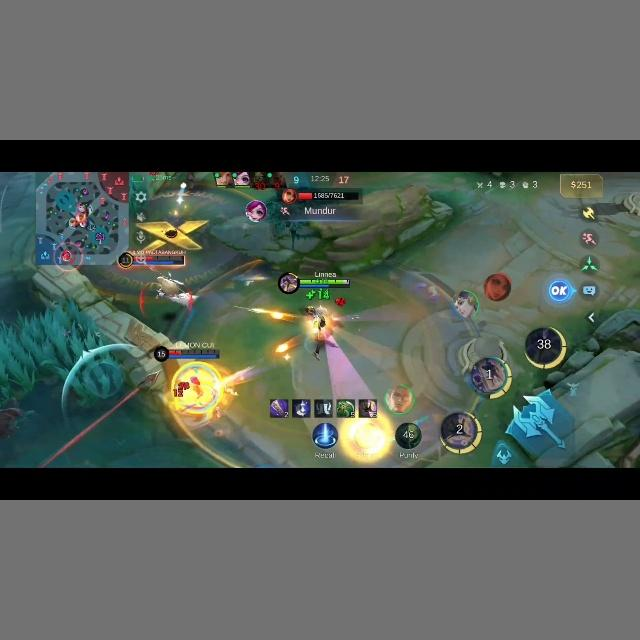hp_enemy: (129, 251, 188, 265), (155, 348, 222, 359), (302, 189, 359, 199)
hp_self: (299, 280, 350, 288)
